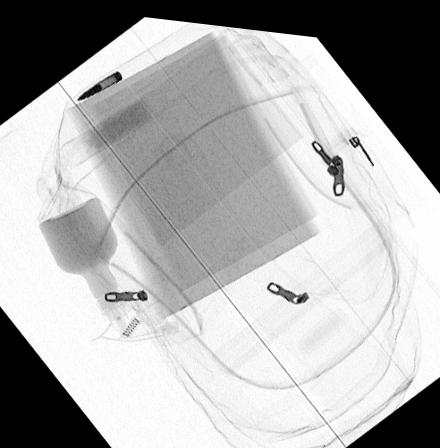Bullet: (72, 65, 123, 100)
